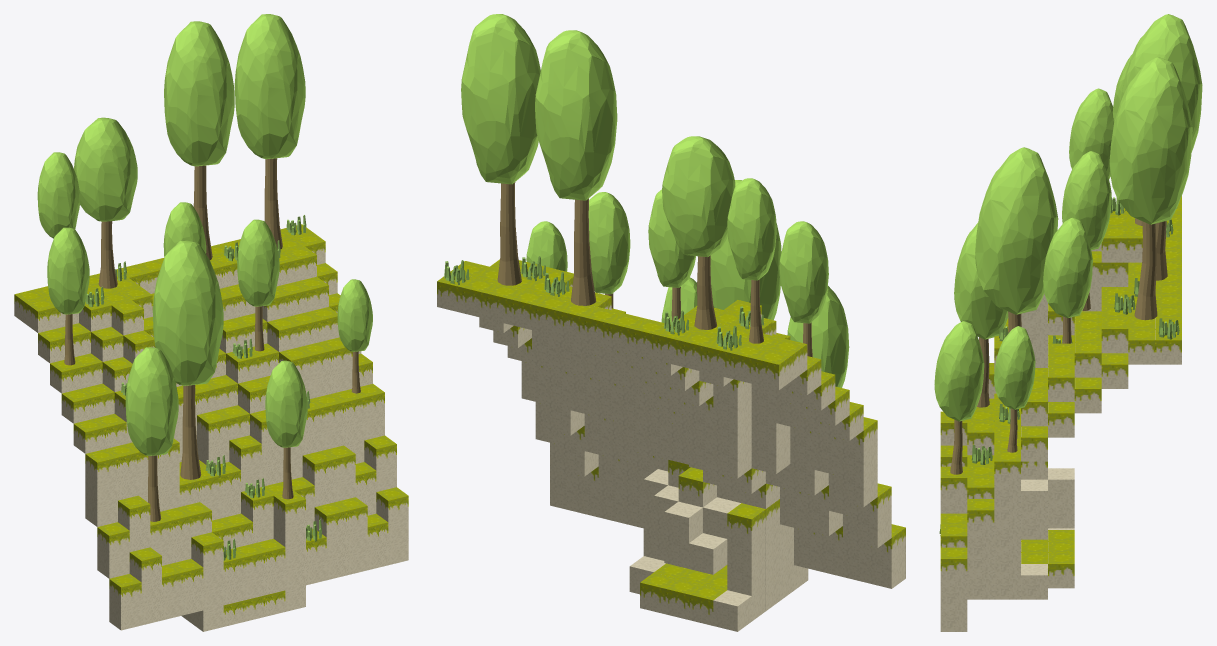
The model's file is Dungeon_Wall1.fbx.
3 renders of one model, left to right at view 1: azimuth 30°, elevation 25°; view 2: azimuth 150°, elevation 25°; view 3: azimuth 270°, elevation 25°, orthographic. The views are drawn at different scales.
Visible parts, largest first — view 1: Ground_Grass_D__2__1__14__1; view 2: Ground_Grass_D__2__1__14__1; view 3: Ground_Grass_D__2__1__14__1.
Part boxes in pixels (x1,y1,x2,y2): Ground_Grass_D__2__1__14__1: (14, 14, 408, 631); Ground_Grass_D__2__1__14__1: (437, 14, 905, 631); Ground_Grass_D__2__1__14__1: (934, 14, 1202, 631).
Size of the model in its own units: 8471 by 14301 by 5995.
Materials: 3 (3 with a texture image).
